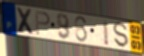6: (74, 15, 89, 44)
9: (56, 12, 71, 41)
I: (102, 19, 110, 47)
P: (34, 10, 52, 37)
S: (112, 22, 130, 49)
X: (16, 6, 36, 37)
